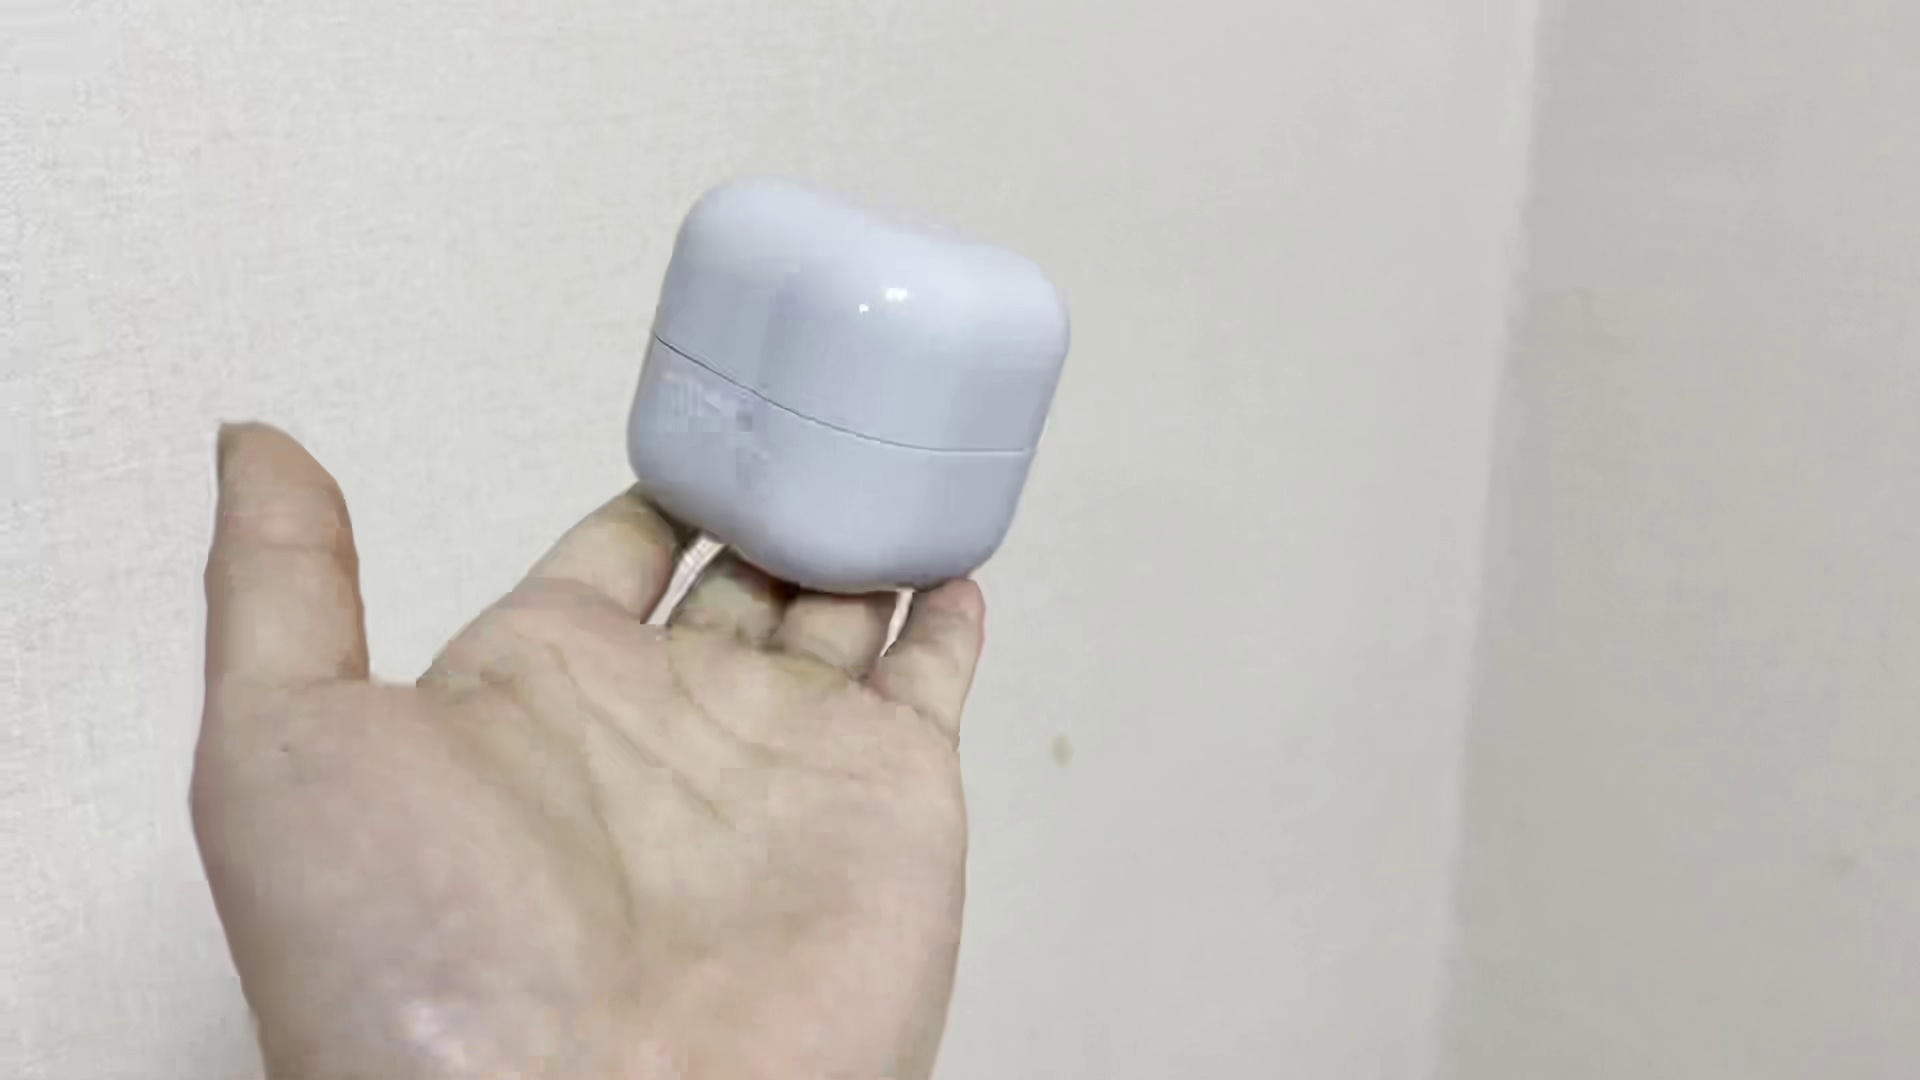cream: (630, 174, 1065, 597)
